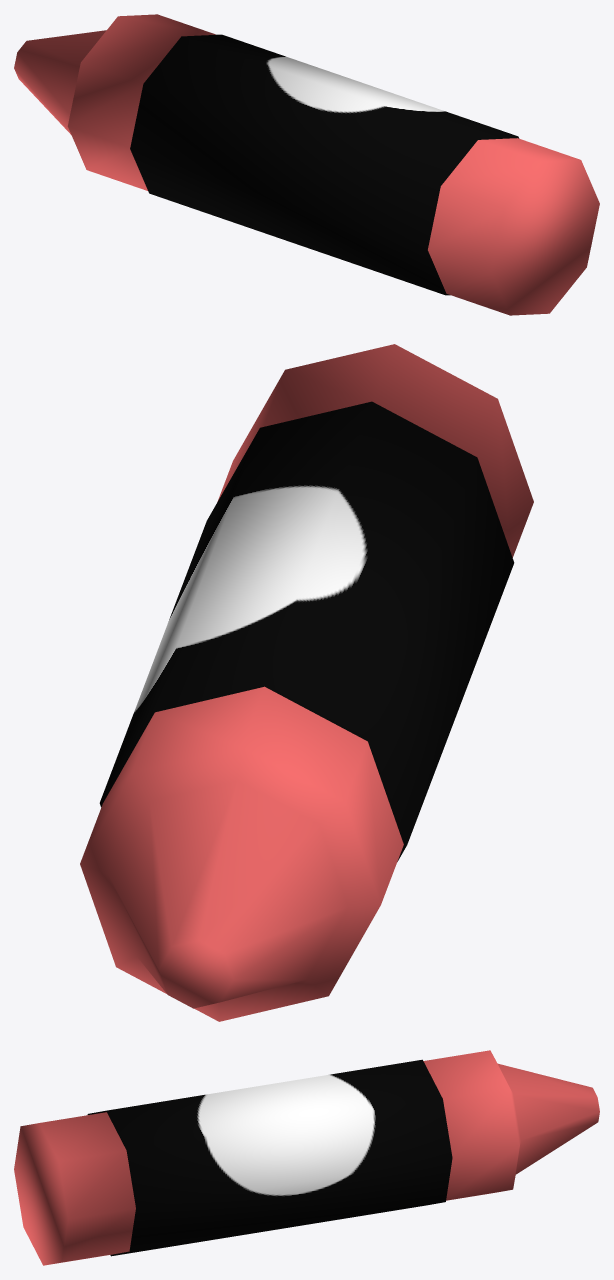
File: RedCrayonOBJ.fbx
3 renders of one model, top to bottom at view 1: azimuth 30°, elevation 25°; view 2: azimuth 150°, elevation 25°; view 3: azimuth 270°, elevation 25°, orthographic. The views are drawn at different scales.
Visible parts, largest first — view 1: HueyDrawing.003; view 2: HueyDrawing.003; view 3: HueyDrawing.003.
Part boxes in pixels (x1,y1,x2,y2): HueyDrawing.003: [14, 14, 599, 315]; HueyDrawing.003: [80, 344, 533, 1021]; HueyDrawing.003: [14, 1050, 599, 1265].
Bounding box in the file's own units: 15.56 × 7.7 × 28.99.
